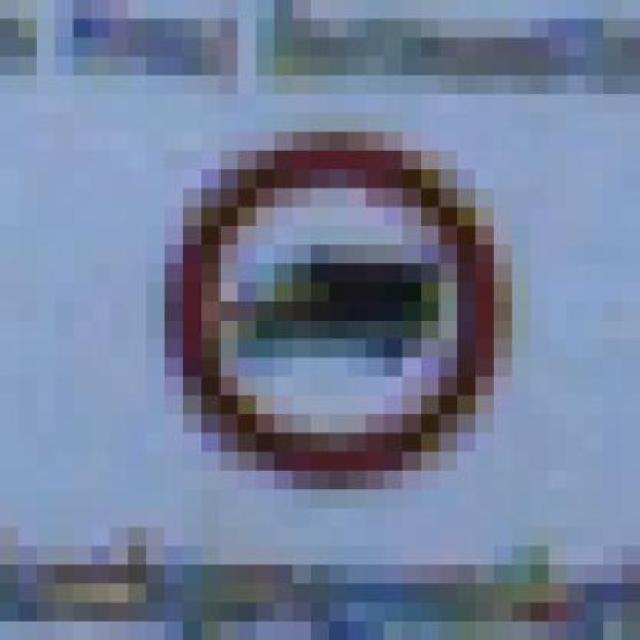Truck traffic is prohibited: (92, 94, 530, 489)
